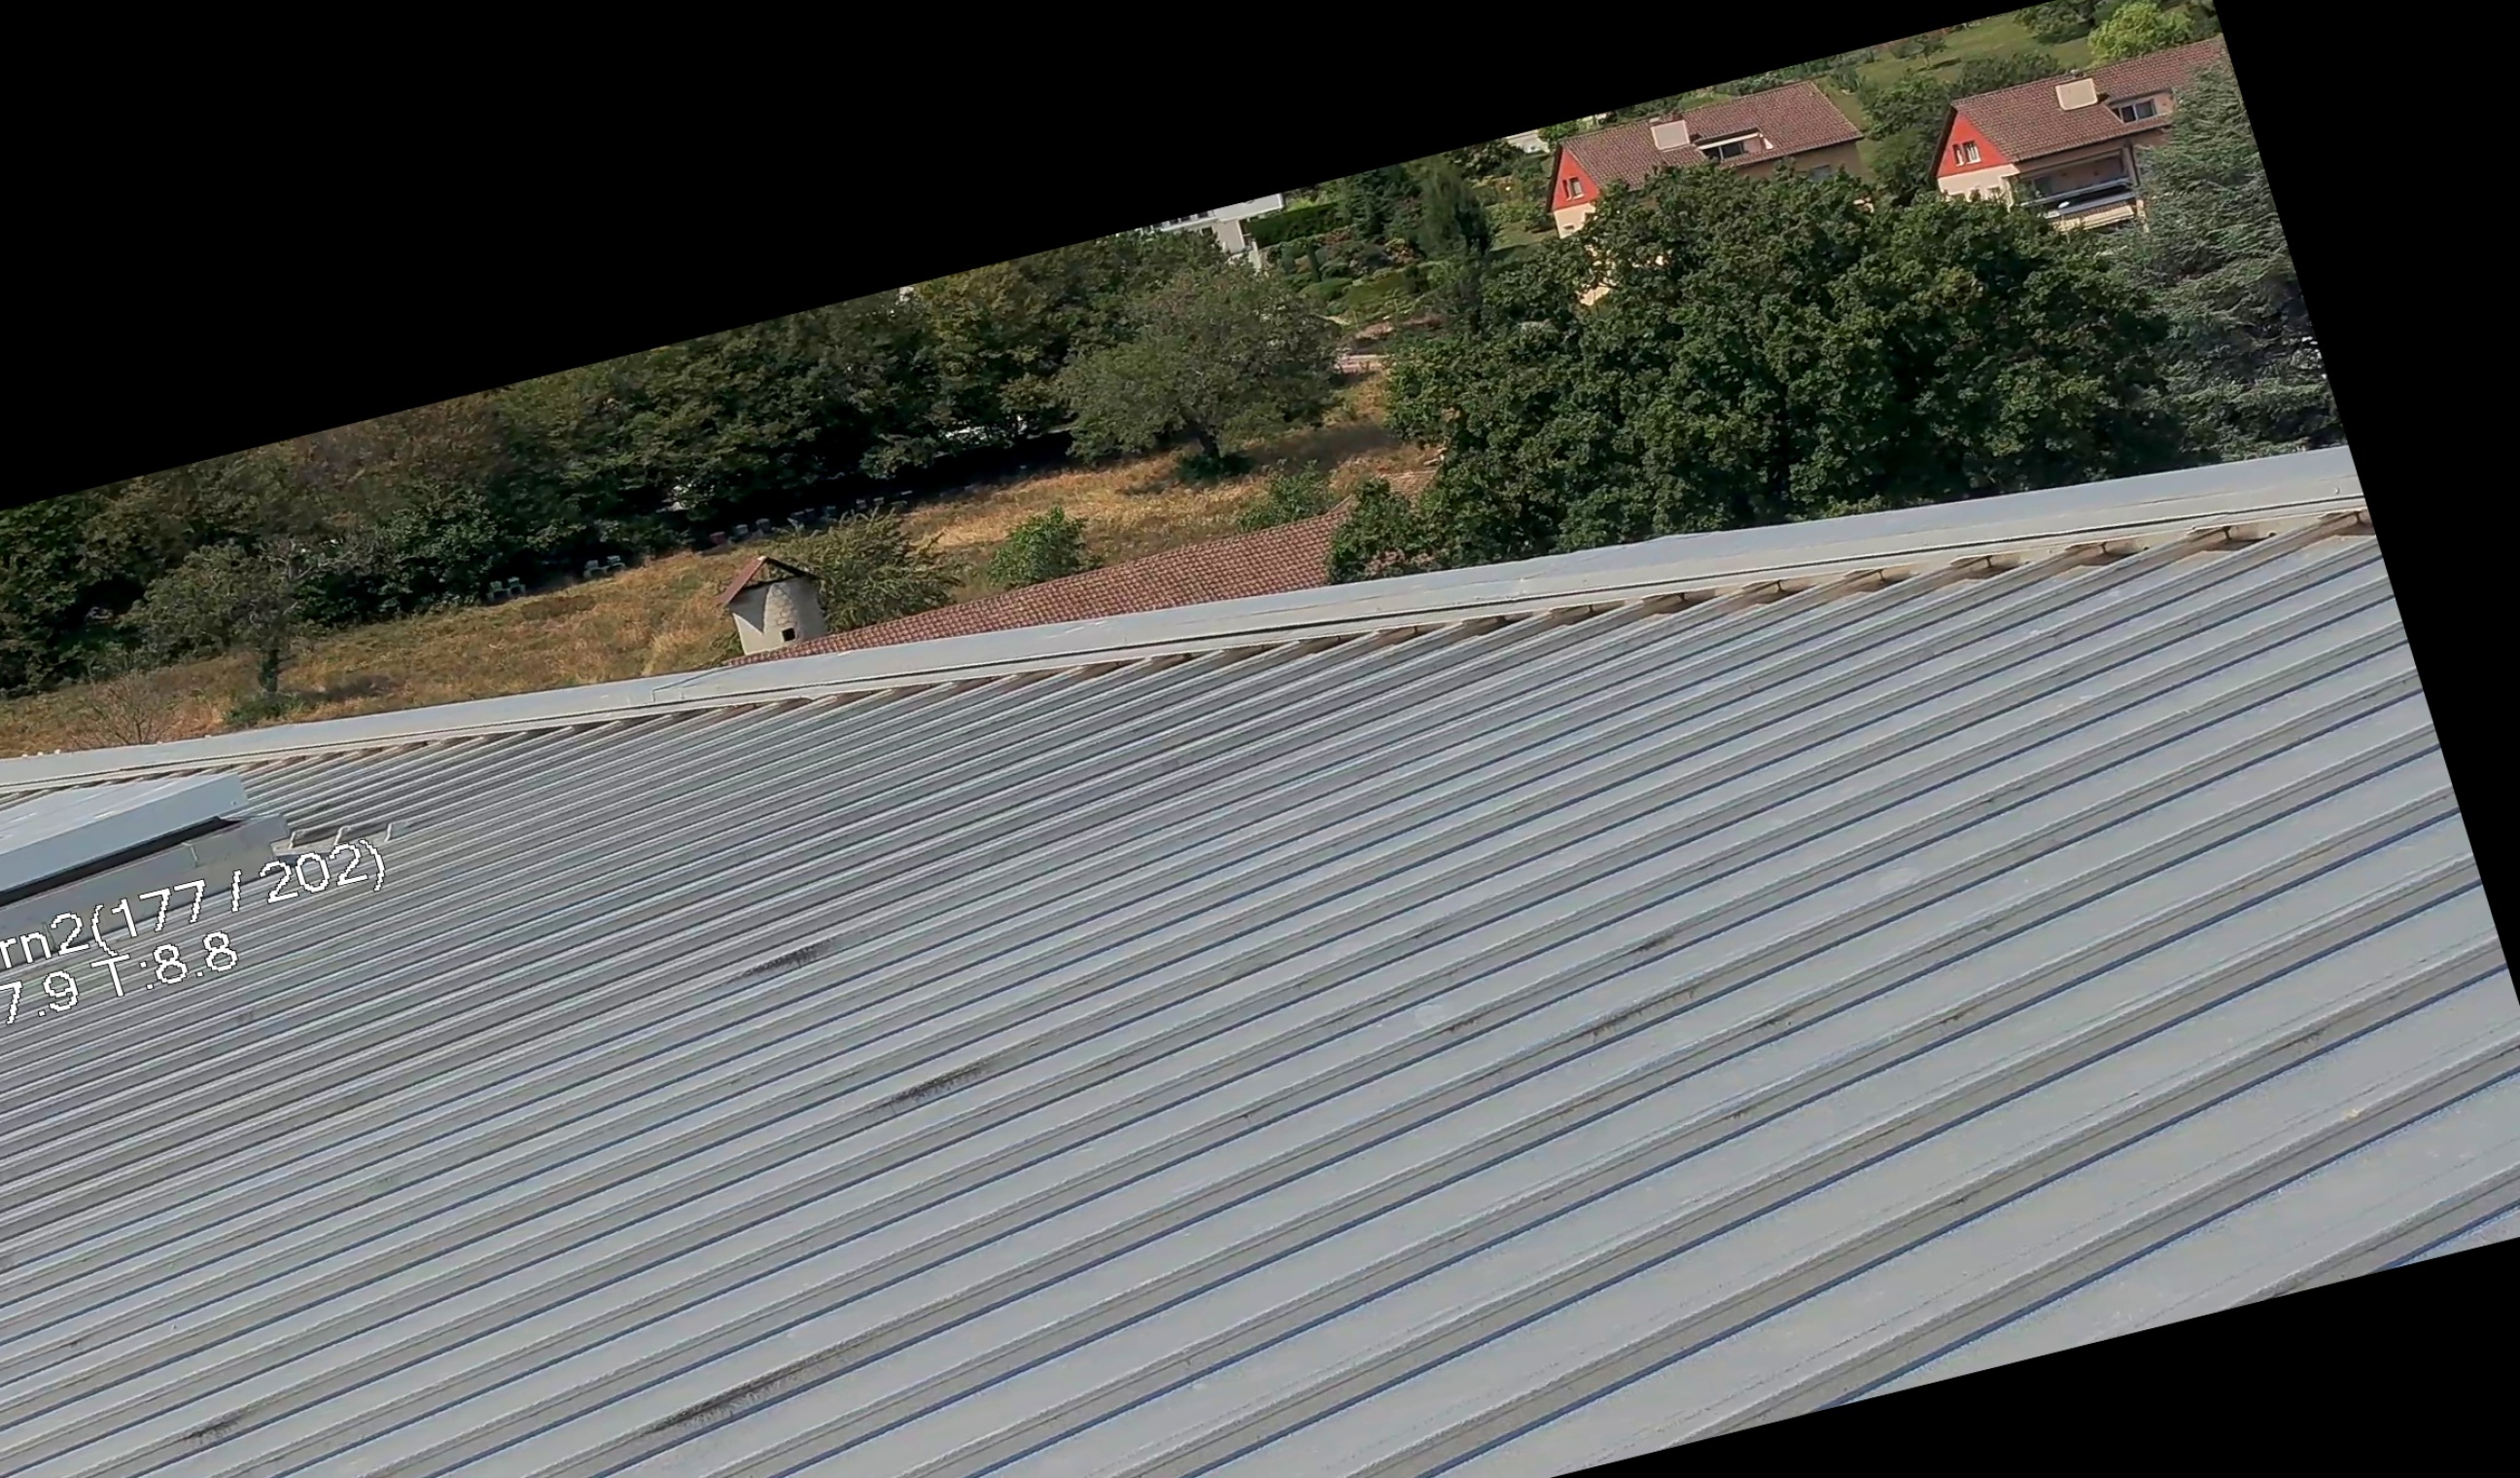Other: (695, 521, 867, 672)
